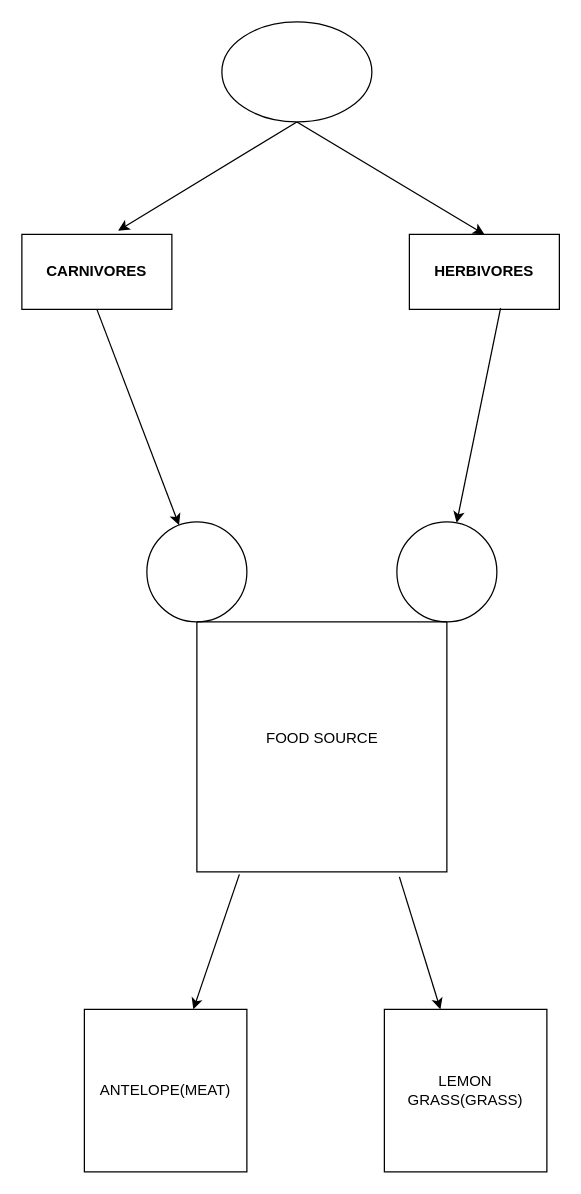
This 581x1194 diagram has some shape labels left out. The centre of each missing label's shape, as x and y in pixels:
"ANIMAL KINGDOM" belongs at (x=296, y=71).
"LION" belongs at (x=196, y=571).
"ZEBRA" belongs at (x=446, y=571).
